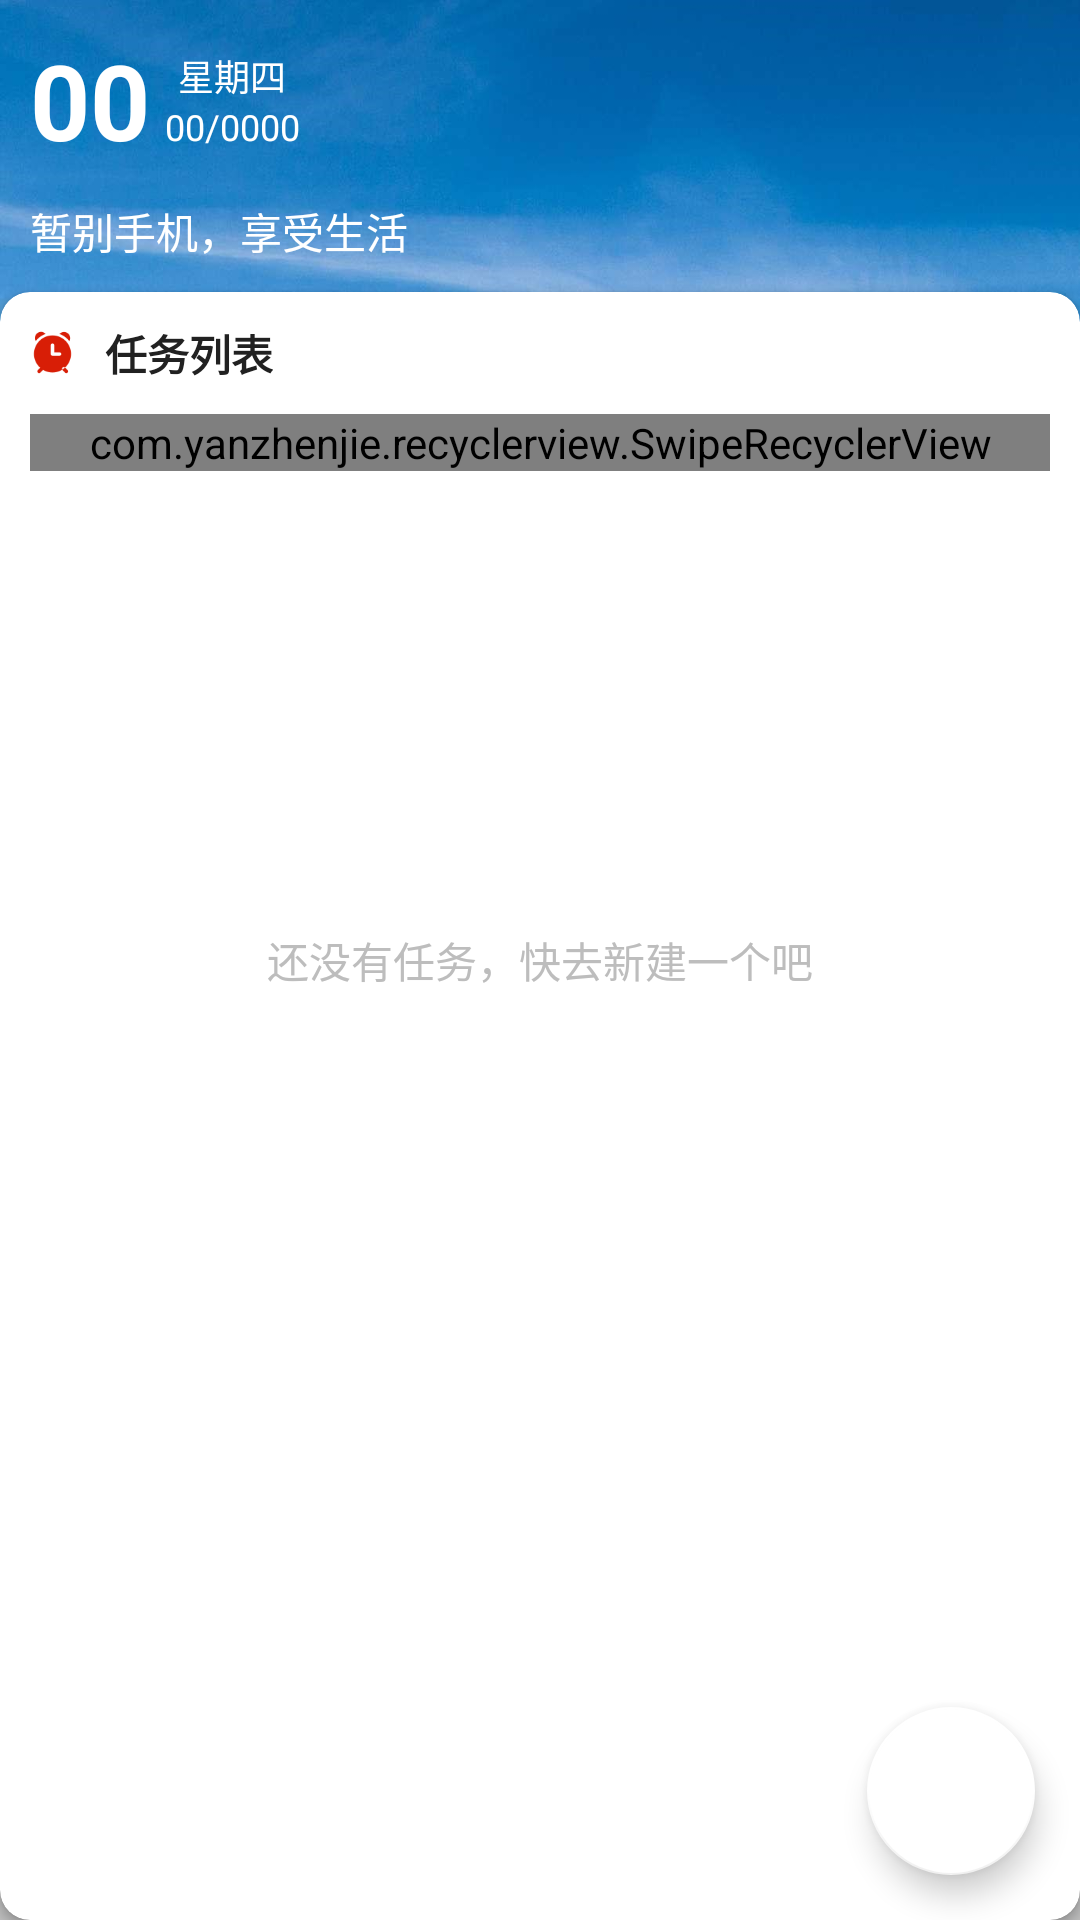

Icon click points for this 1080 × 1920 phone screenshot, format (x,y):
alarm: (52,352)
